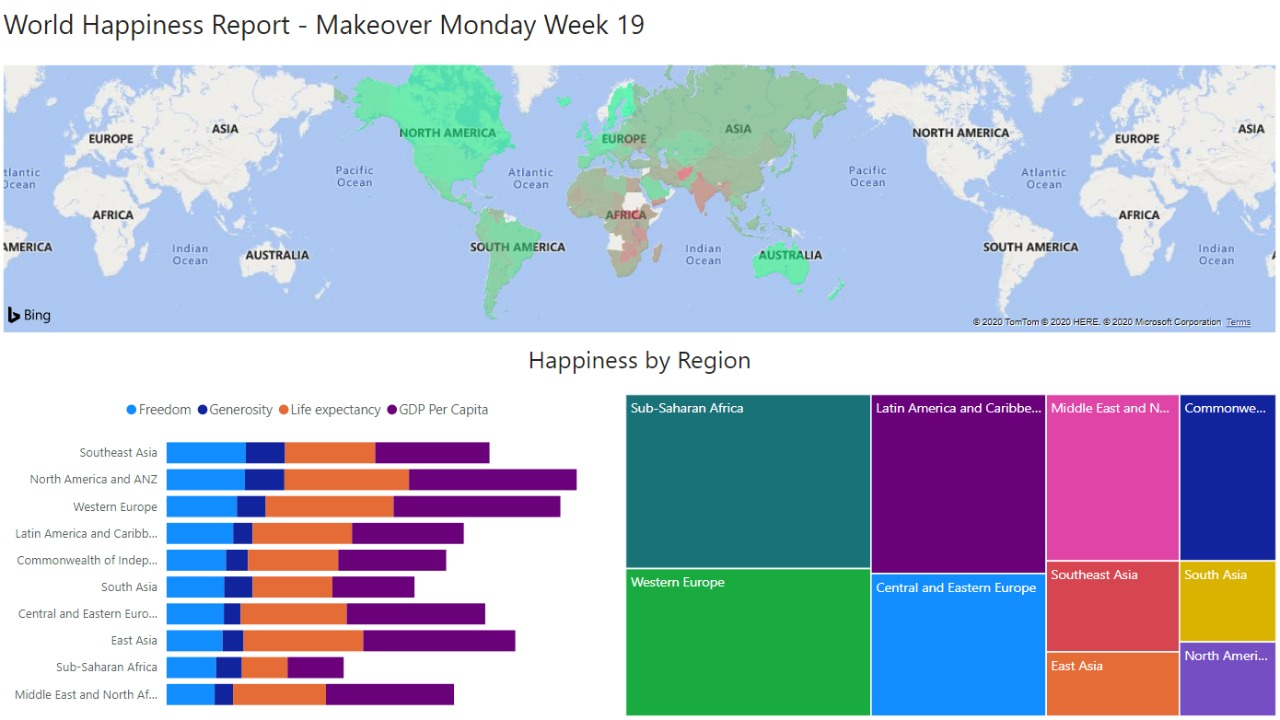

Layout of this report page (visuals, bound fields, positions):
{"tool":"powerbi","page":{"name":"Page 1","canvas":[1280,720],"ordinal":0},"visuals":[{"type":"filledMap","title":"World","fields":{"Category":["2020w19-world-happiness-report-2020-QueryResult.country_name"]},"box":[0,60.1,1280,276.5],"z":0},{"type":"barChart","fields":{"Category":["2020w19-world-happiness-report-2020-QueryResult.regional_indicator"],"Y":["Avg(2020w19-world-happiness-report-2020-QueryResult.explained_by_freedom_to_make_life_choices)","Avg(2020w19-world-happiness-report-2020-QueryResult.explained_by_generosity)","Avg(2020w19-world-happiness-report-2020-QueryResult.explained_by_healthy_life_expectancy)","Avg(2020w19-world-happiness-report-2020-QueryResult.explained_by_log_gdp_per_capita)"]},"box":[0,388.3,621.4,331.4],"z":1000},{"type":"treemap","fields":{"Group":["2020w19-world-happiness-report-2020-QueryResult.regional_indicator"],"Values":["Sum(2020w19-world-happiness-report-2020-QueryResult.ladder_score)"]},"box":[621.4,388.3,658.6,331.4],"z":2000},{"type":"textbox","box":[0,0,1280,60.1],"z":2001},{"type":"textbox","box":[0,336.6,1280,51.8],"z":2002}]}

Visuals, with their boxes in screenshot pixels (x1, y1, x2, y2), scaled from the page's 1280x720 canvas onto the 1280x720 screenshot:
"World" filledMap: BBox(0, 60, 1279, 337)
barChart - 2020w19-world-happiness-report-2020-QueryResult.regional_indicator x Avg(2020w19-world-happiness-report-2020-QueryResult.explained_by_freedom_to_make_life_choices): BBox(0, 388, 621, 719)
treemap - 2020w19-world-happiness-report-2020-QueryResult.regional_indicator x Sum(2020w19-world-happiness-report-2020-QueryResult.ladder_score): BBox(621, 388, 1279, 719)
textbox: BBox(0, 0, 1279, 60)
textbox: BBox(0, 337, 1279, 388)
